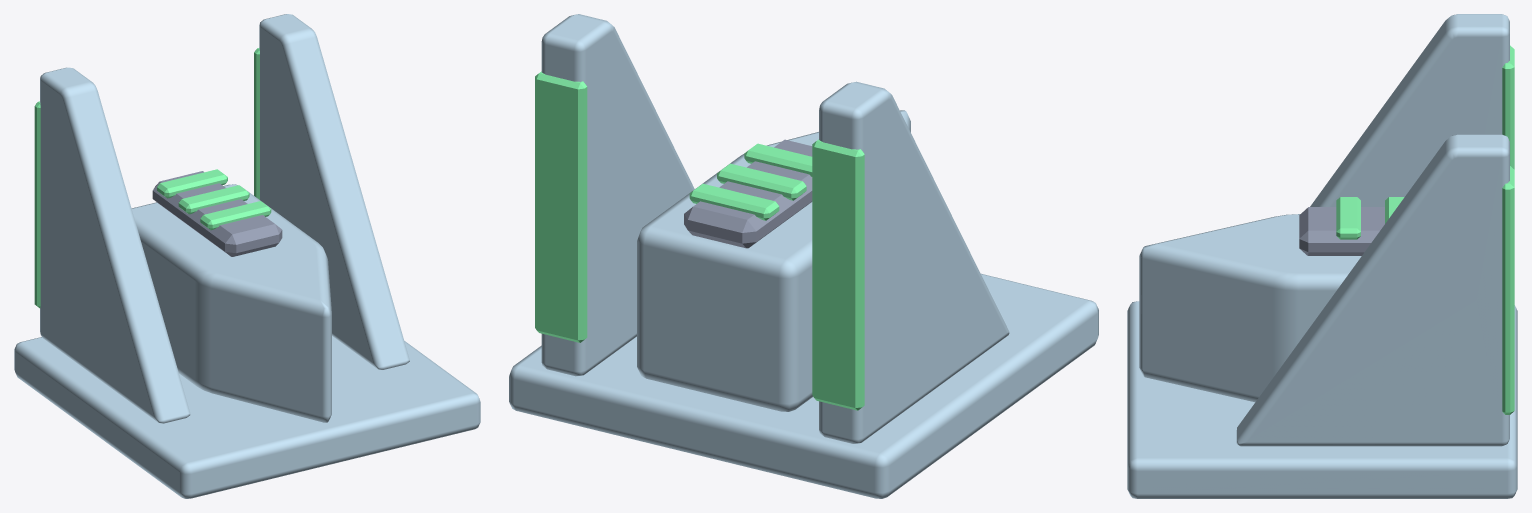
Rendered from R4X_MobilityBooster.glb.
3 renders of one model, left to right at view 1: azimuth 30°, elevation 25°; view 2: azimuth 150°, elevation 25°; view 3: azimuth 270°, elevation 25°, orthographic. The views are drawn at different scales.
Visible parts, largest first — view 1: R4X_MobilityBooster_Body; view 2: R4X_MobilityBooster_Body; view 3: R4X_MobilityBooster_Body.
Boxes of the visible parts, x1,y1,x2,y2 form: R4X_MobilityBooster_Body: (14,14,480,498); R4X_MobilityBooster_Body: (509,14,1098,498); R4X_MobilityBooster_Body: (1127,14,1517,498).
Bounding box in the file's own units: 0.52 × 0.5 × 0.52.
